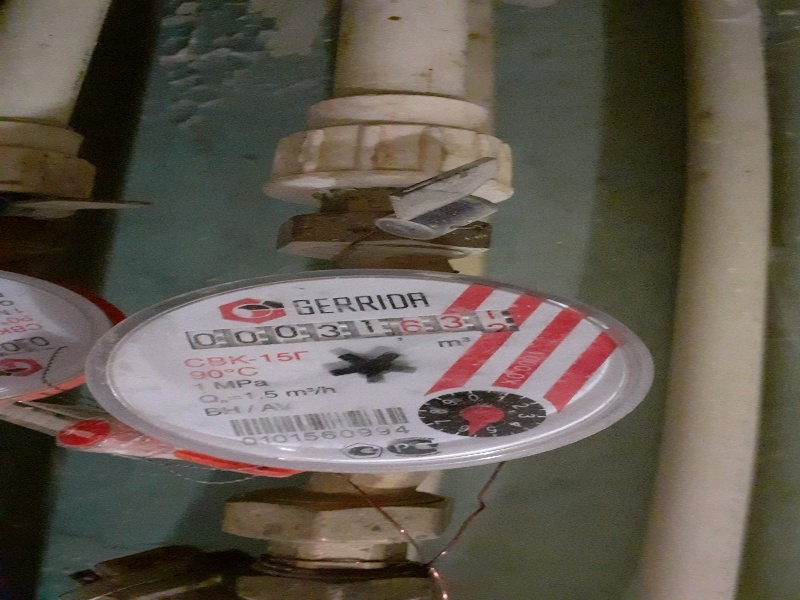meter: (180, 303, 531, 356)
